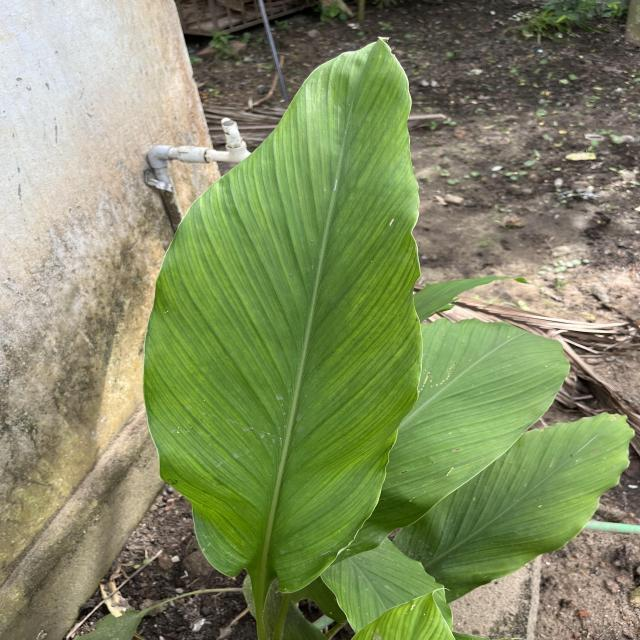Curcuma longa: (138, 32, 430, 598)
